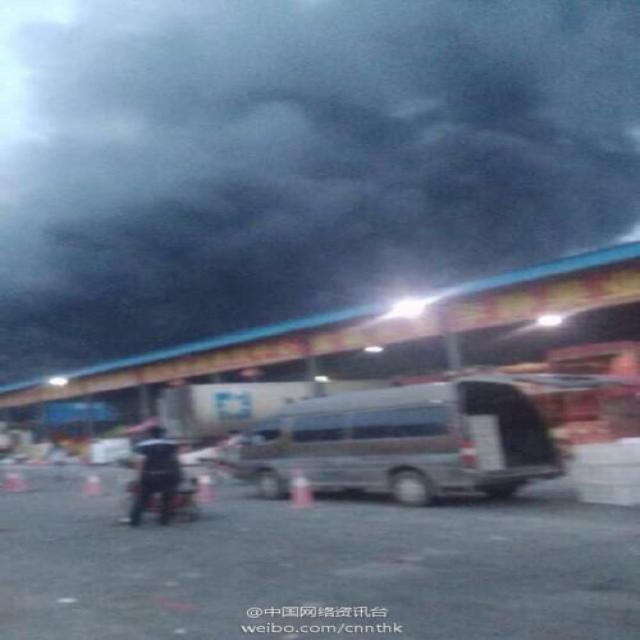Smoke: (0, 0, 640, 380)
